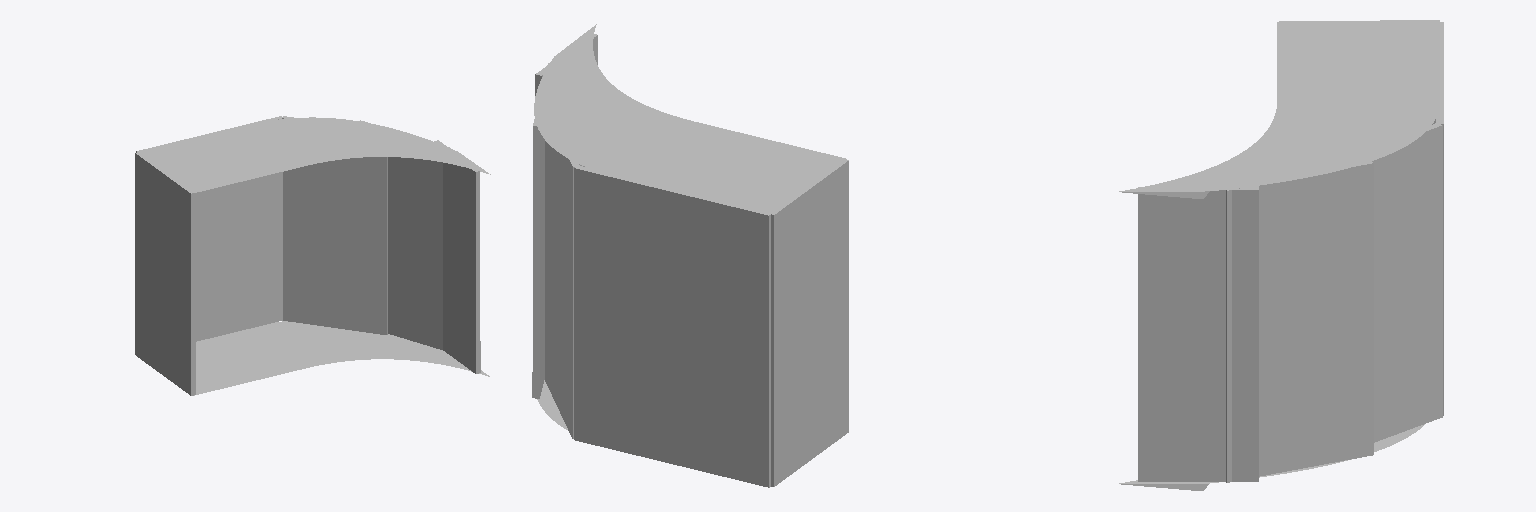
robot.urdf — shovel:
<?xml version="1.0"?>
<robot name="shovel">

  <!-- Link representing the base of the shovel -->
  <link name="slove_base_link">
    <visual>
      <geometry>
        <box size="0.0 0.00 0.0"/>
      </geometry>
      <material name="grey">
        <color rgba="0.7 0.7 0 1.0"/>
      </material>
    </visual>
    <collision>
      <geometry>
        <box size="0.0 0.0 0.0"/>
      </geometry>
    </collision>
    <inertial>
      <mass value="0.5"/>
      <origin rpy="0 0 0" xyz="0.0 0.0 0.0"/>
      <inertia ixx="0.0002" ixy="0.0" ixz="0.0" iyy="0.0002" iyz="0.0" izz="0.0004"/>
    </inertial>
  </link>

  <!-- Link representing the blade of the shovel -->
  <link name="blade_link">
    <visual>
      <geometry>
        <box size="0.06 0.002 0.08"/>
      </geometry>
      <material name="silver">
        <color rgba="0.8 0.8 0.8 1.0"/>
      </material>
    </visual>
    <collision>
      <geometry>
        <box size="0.06 0.002 0.08"/>
      </geometry>
    </collision>
    <inertial>
      <mass value="0.2"/>
      <origin rpy="0 0 0" xyz="0.0 0.0 -0.025"/>
      <inertia ixx="0.0001" ixy="0.0" ixz="0.0" iyy="0.0001" iyz="0.0" izz="0.0002"/>
    </inertial>
  </link>  <!-- Link representing the blade of the shovel -->

  <link name="blade_link_side1">
    <visual>
      <geometry>
        <mesh filename="package://pybullet/meshes/slove/sloves_side.stl"/>
      </geometry>
      <material name="silver">
        <color rgba="0.8 0.8 0.8 1.0"/>
      </material>
    </visual>
    <collision>
      <geometry>
        <mesh filename="package://pybullet/meshes/slove/sloves_side.stl"/>
      </geometry>
    </collision>
    <inertial>
      <mass value="0.2"/>
      <origin rpy="0 0 0" xyz="0.0 0.0 -0.025"/>
      <inertia ixx="0.0001" ixy="0.0" ixz="0.0" iyy="0.0001" iyz="0.0" izz="0.0002"/>
    </inertial>
  </link>

  <link name="blade_link_side2">
    <visual>
      <geometry>
        <mesh filename="package://pybullet/meshes/slove/sloves_side.stl"/>
      </geometry>
      <material name="silver">
        <color rgba="0.8 0.8 0.8 1.0"/>
      </material>
    </visual>
    <collision>
      <geometry>
        <mesh filename="package://pybullet/meshes/slove/sloves_side.stl"/>
      </geometry>
    </collision>
    <inertial>
      <mass value="0.2"/>
      <origin rpy="0 0 0" xyz="0.0 0.0 -0.025"/>
      <inertia ixx="0.0001" ixy="0.0" ixz="0.0" iyy="0.0001" iyz="0.0" izz="0.0002"/>
    </inertial>
  </link>

    <link name="blade_link_bot">
    <visual>
      <geometry>
        <box size="0.08 0.002 0.04"/>
      </geometry>
      <material name="silver">
        <color rgba="0.8 0.8 0.8 1.0"/>
      </material>
    </visual>
    <collision>
      <geometry>
        <box size="0.08 0.002 0.04"/>
      </geometry>
    </collision>
    <inertial>
      <mass value="0.2"/>
      <origin rpy="0 0 0" xyz="0.0 0.0 -0.025"/>
      <inertia ixx="0.0001" ixy="0.0" ixz="0.0" iyy="0.0001" iyz="0.0" izz="0.0002"/>
    </inertial>
  </link>


    <link name="blade_link_top1">
    <visual>
      <geometry>
        <box size="0.08 0.002 0.04"/>
      </geometry>
      <material name="silver">
        <color rgba="0.8 0.8 0.8 1.0"/>
      </material>
    </visual>
    <collision>
      <geometry>
        <box size="0.08 0.002 0.04"/>
      </geometry>
    </collision>
    <inertial>
      <mass value="0.2"/>
      <origin rpy="0 0 0" xyz="0.0 0.0 -0.025"/>
      <inertia ixx="0.0001" ixy="0.0" ixz="0.0" iyy="0.0001" iyz="0.0" izz="0.0002"/>
    </inertial>
  </link>

    <link name="blade_link_top2">
    <visual>
      <geometry>
        <box size="0.08 0.002 0.04"/>
      </geometry>
      <material name="silver">
        <color rgba="0.8 0.8 0.8 1.0"/>
      </material>
    </visual>
    <collision>
      <geometry>
        <box size="0.08 0.002 0.04"/>
      </geometry>
    </collision>
    <inertial>
      <mass value="0.2"/>
      <origin rpy="0 0 0" xyz="0.0 0.0 -0.025"/>
      <inertia ixx="0.0001" ixy="0.0" ixz="0.0" iyy="0.0001" iyz="0.0" izz="0.0002"/>
    </inertial>
  </link>

    <link name="blade_link_top3">
    <visual>
      <geometry>
        <box size="0.08 0.002 0.03"/>
      </geometry>
      <material name="silver">
        <color rgba="0.8 0.8 0.8 1.0"/>
      </material>
    </visual>
    <collision>
      <geometry>
        <box size="0.08 0.002 0.03"/>
      </geometry>
    </collision>
    <inertial>
      <mass value="0.2"/>
      <origin rpy="0 0 0" xyz="0.0 0.0 -0.025"/>
      <inertia ixx="0.0001" ixy="0.0" ixz="0.0" iyy="0.0001" iyz="0.0" izz="0.0002"/>
    </inertial>
  </link>

  <!-- Joint connecting the base and blade -->
  <joint name="joint_base_blade" type="fixed">
    <parent link="slove_base_link"/>
    <child link="blade_link"/>
    <origin rpy="0 0 0" xyz="0.09 0.02 0.0"/>
  </joint>  
  <joint name="joint_base_blade_side1" type="fixed">
    <parent link="slove_base_link"/>
    <child link="blade_link_side1"/>
    <origin rpy="3.14 0 0" xyz="0.06 0.02 0.04"/>
  </joint>

  <joint name="joint_base_blade_side2" type="fixed">
    <parent link="slove_base_link"/>
    <child link="blade_link_side2"/>
    <origin rpy="3.14 0 0" xyz="0.06 0.02 -0.04"/>
  </joint>

  <joint name="joint_base_blade_bot" type="fixed">
    <parent link="slove_base_link"/>
    <child link="blade_link_bot"/>
    <origin rpy="1.57 1.57 0" xyz="0.06 0.0 0"/>
  </joint>


    <joint name="joint_base_blade_top1" type="fixed">
    <parent link="slove_base_link"/>
    <child link="blade_link_top1"/>
    <origin rpy="0.85 1.57 0" xyz="0.133 0.005 0"/>
  </joint>
      <joint name="joint_base_blade_top2" type="fixed">
    <parent link="slove_base_link"/>
    <child link="blade_link_top2"/>
    <origin rpy="1.15 1.57 0" xyz="0.15 -0.015 0"/>
  </joint>
      <joint name="joint_base_blade_top3" type="fixed">
    <parent link="slove_base_link"/>
    <child link="blade_link_top3"/>
    <origin rpy="1.57 1.57 0" xyz="0.1575 -0.04 0"/>
  </joint>

</robot>

--- What the picture shows (computed from the rendered views, not written in the file) ---
3 views of the same robot in one strip: view 1: azimuth 30°, elevation 25°; view 2: azimuth 150°, elevation 25°; view 3: azimuth 270°, elevation 25° (orthographic).
Model shovel with 8 links and 7 joints (7 fixed), rooted at slove_base_link, posed every joint at zero.
Links seen in each view (by area): view 1: blade_link_top1, blade_link, blade_link_side1, blade_link_bot, blade_link_top2, blade_link_side2, blade_link_top3; view 2: blade_link, blade_link_side1, blade_link_bot, blade_link_top1, blade_link_top2; view 3: blade_link_top2, blade_link_top3, blade_link_side1, blade_link_top1, blade_link_side2, blade_link.
Link boxes in pixels (x1,y1,x2,y2): blade_link_top1: (282, 116, 387, 334); blade_link: (136, 116, 282, 341); blade_link_side1: (138, 117, 490, 192); blade_link_bot: (135, 152, 195, 395); blade_link_top2: (360, 120, 449, 349); blade_link_side2: (194, 321, 489, 395); blade_link_top3: (434, 140, 480, 373); blade_link: (574, 166, 770, 487); blade_link_side1: (534, 24, 845, 213); blade_link_bot: (768, 159, 848, 486); blade_link_top1: (545, 141, 579, 438); blade_link_top2: (532, 63, 549, 398); blade_link_top2: (1226, 161, 1373, 482); blade_link_top3: (1138, 186, 1258, 481); blade_link_side1: (1119, 22, 1439, 198); blade_link_top1: (1372, 123, 1442, 442); blade_link_side2: (1119, 424, 1424, 490); blade_link: (1436, 22, 1443, 415).
Size in the robot's own frame: 0.16 by 0.0814 by 0.082 metres.
2 mesh visuals loaded from 1 distinct referenced files (1 binary STL).